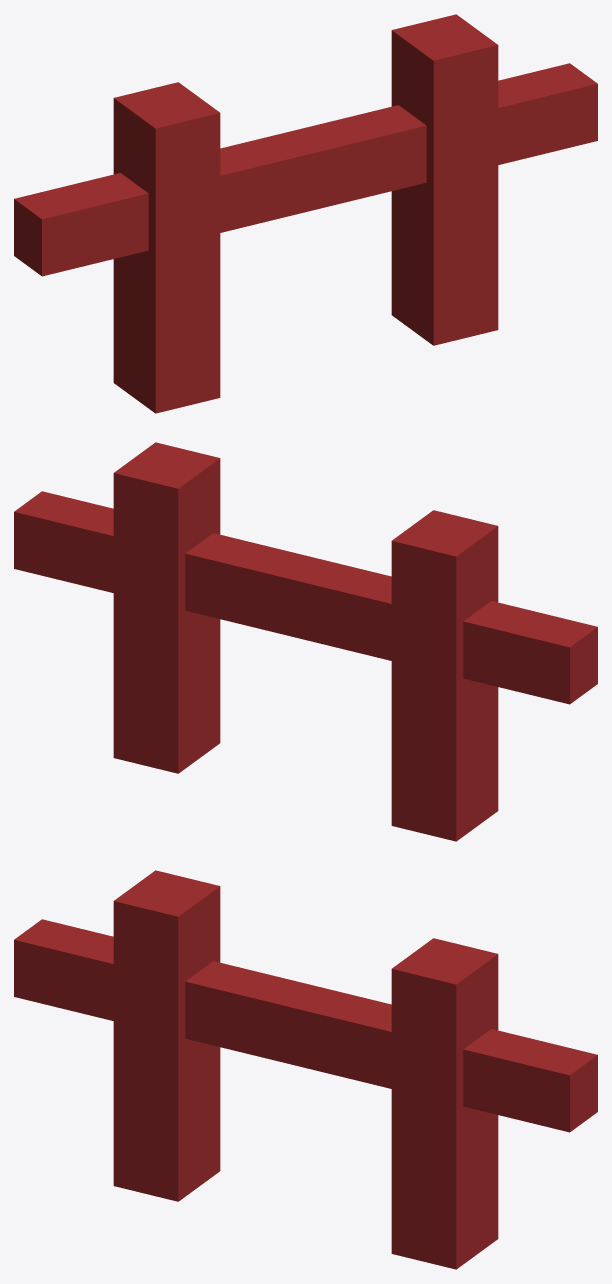
The model's file is Asian_Prop_Building_Fence_Handrail_01.FBX.
3 views of the same model, one above another, from view 1: azimuth 30°, elevation 25°; view 2: azimuth 150°, elevation 25°; view 3: azimuth 330°, elevation 25° (orthographic).
Visible parts, largest first — view 1: Asian_Prop_Building_Fence_Handrail_01; view 2: Asian_Prop_Building_Fence_Handrail_01; view 3: Asian_Prop_Building_Fence_Handrail_01.
Part boxes in pixels (bbox=[...]): Asian_Prop_Building_Fence_Handrail_01: bbox=[14, 14, 597, 413]; Asian_Prop_Building_Fence_Handrail_01: bbox=[14, 442, 597, 841]; Asian_Prop_Building_Fence_Handrail_01: bbox=[14, 870, 597, 1269].
Bounding box in the file's own units: 2584 × 1266 × 338.
